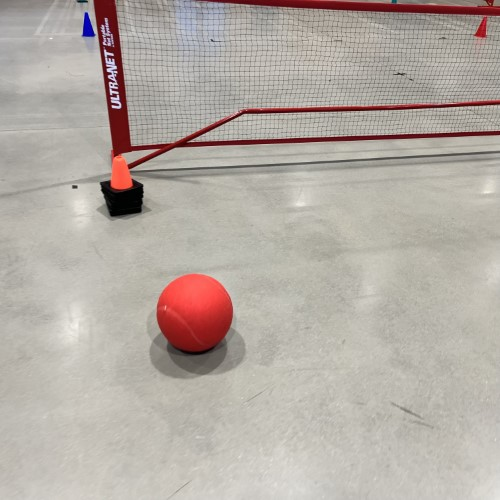red: (155, 273, 235, 353)
